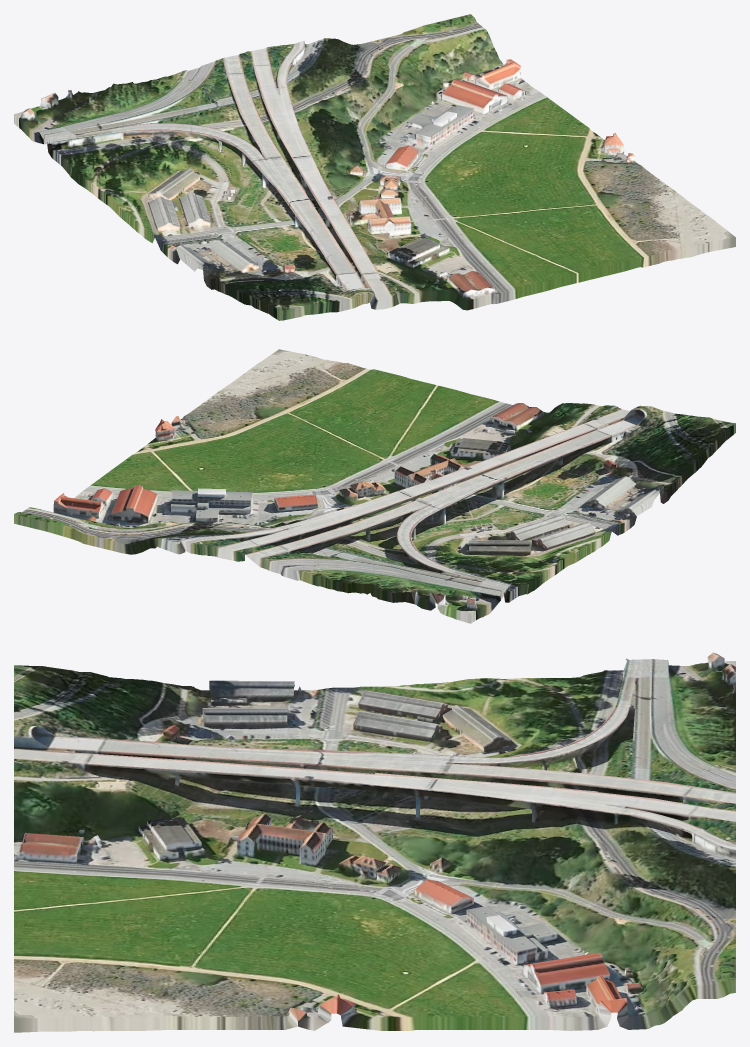
File: z16-10473-25324-h0-yup-uvflip-v3-world.glb
The picture shows the model from 3 angles, top to bottom: view 1: azimuth 30°, elevation 25°; view 2: azimuth 150°, elevation 25°; view 3: azimuth 270°, elevation 25°; orthographic projection. The views are drawn at different scales.
Size of the model in its own units: 483 by 62.08 by 485.
1 material, 1 textured.
